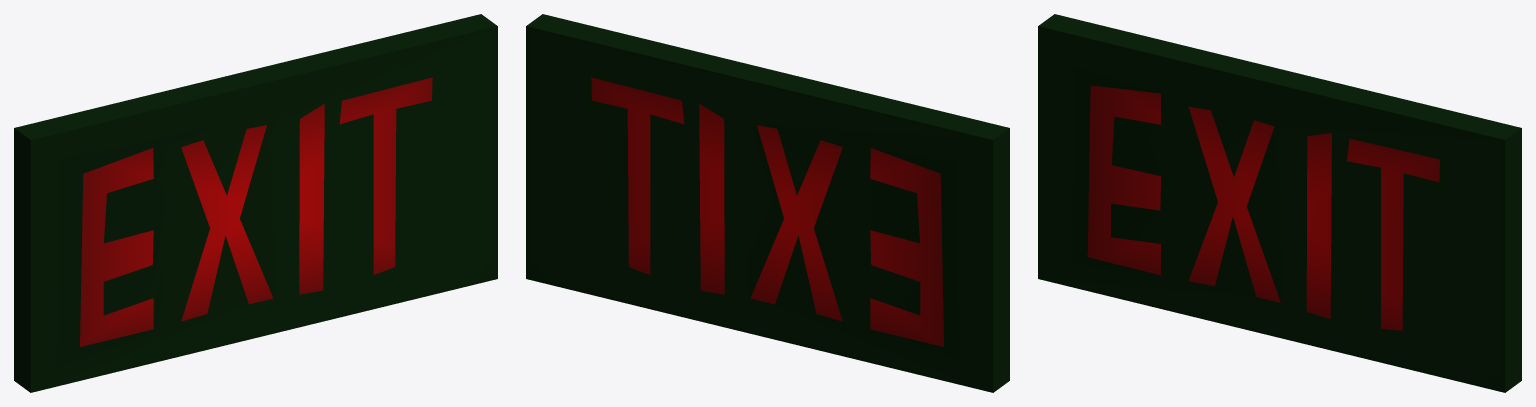
The picture shows the model from 3 angles, left to right: view 1: azimuth 30°, elevation 25°; view 2: azimuth 150°, elevation 25°; view 3: azimuth 330°, elevation 25°; orthographic projection.
Parts seen in each view (by area): view 1: Plane.678; view 2: Plane.678; view 3: Plane.678.
Boxes of the visible parts, x1,y1,x2,y2 form: Plane.678: (14, 14, 497, 392); Plane.678: (526, 14, 1009, 392); Plane.678: (1038, 14, 1521, 392).
Bounding box in the file's own units: 0.3049 × 0.1578 × 0.0192.
